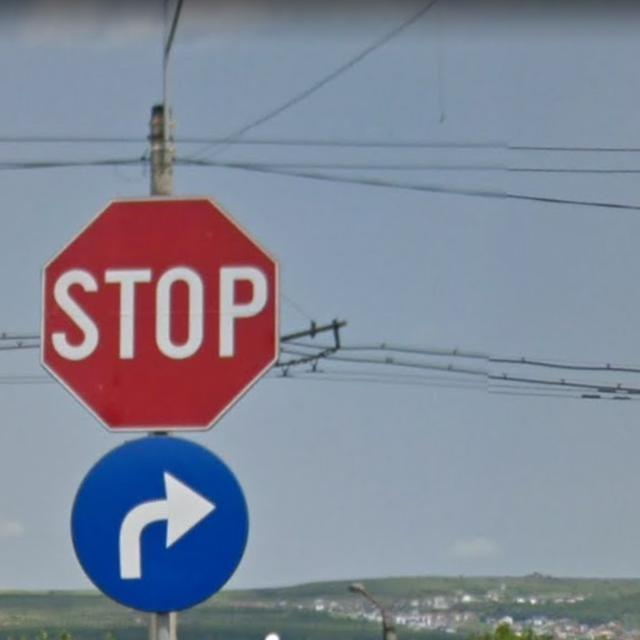prio_stop: (43, 200, 280, 432)
